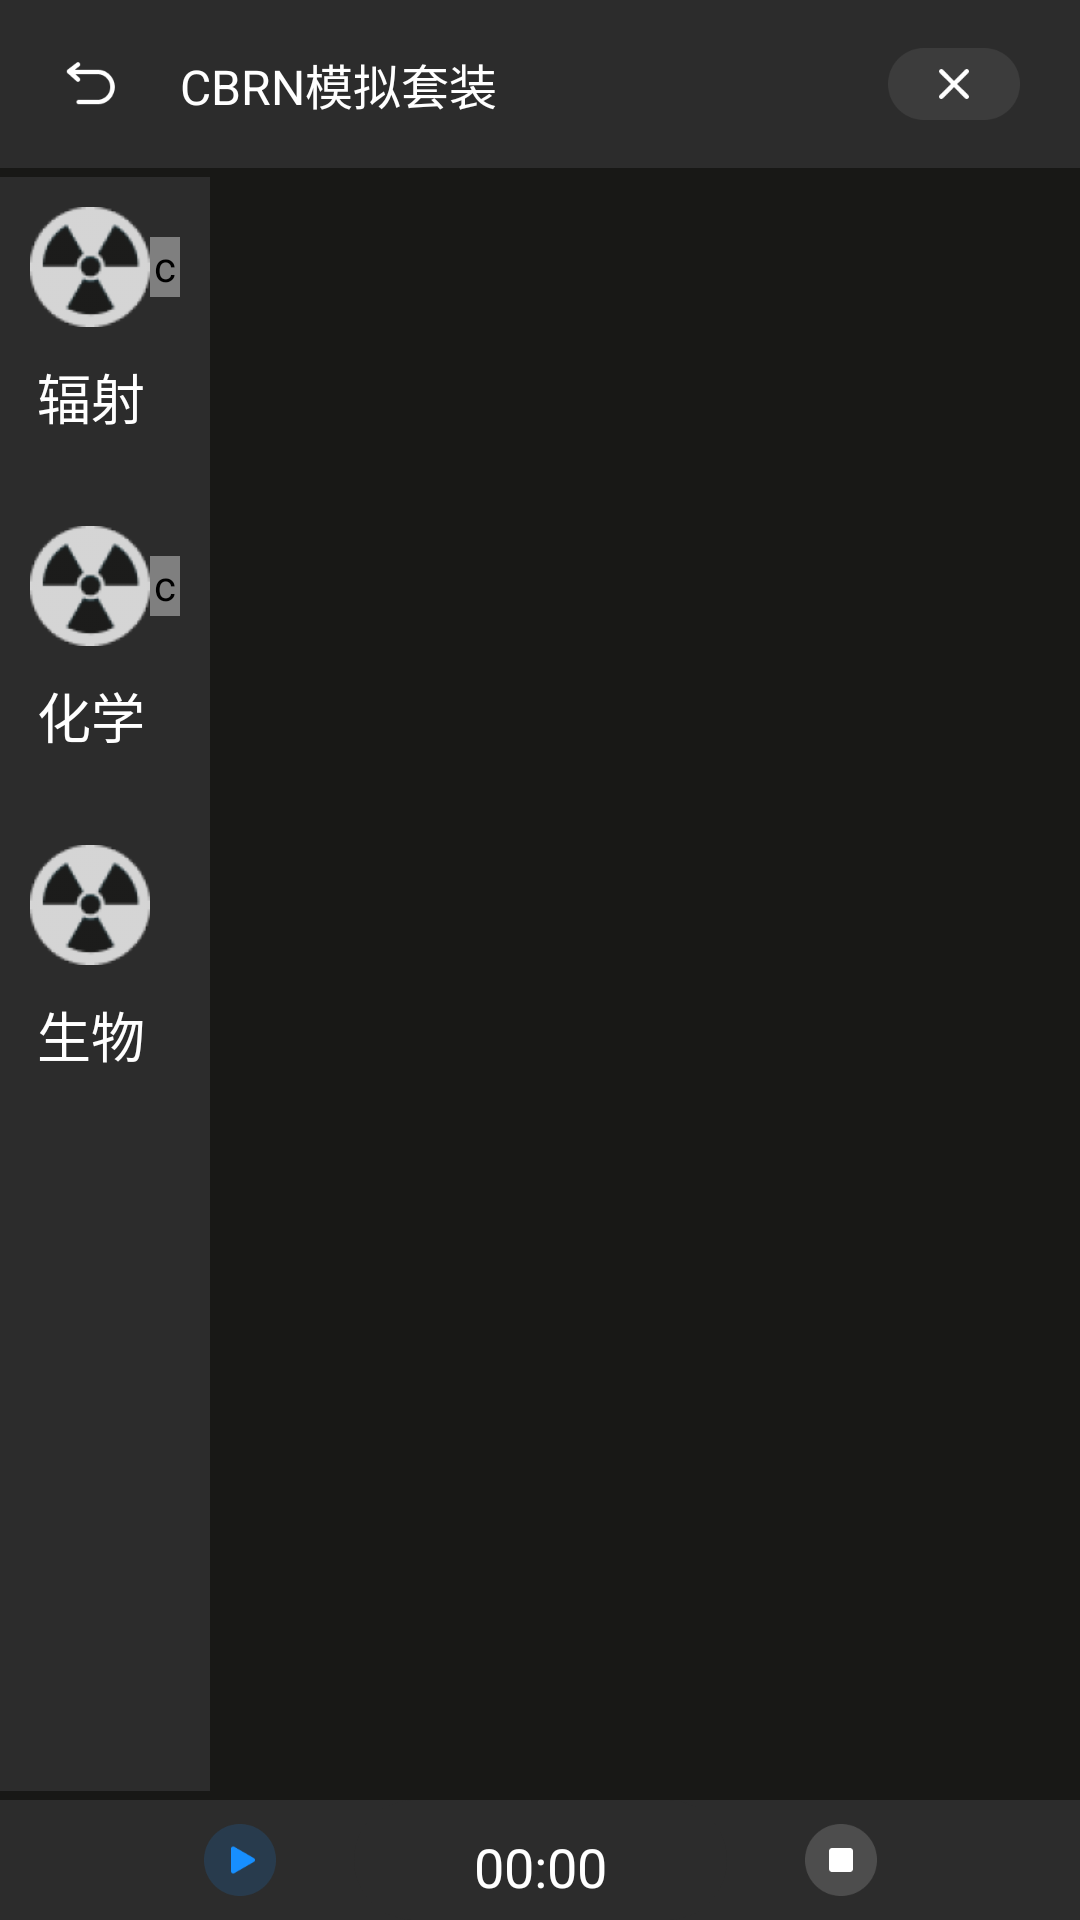

Icons on this 1080 × 1920 Android screen, each with the point to tap as (x,y):
back: (90,83)
cancel: (954,84)
radiation: (90,267), (90,586), (90,905)
start: (240,1860)
